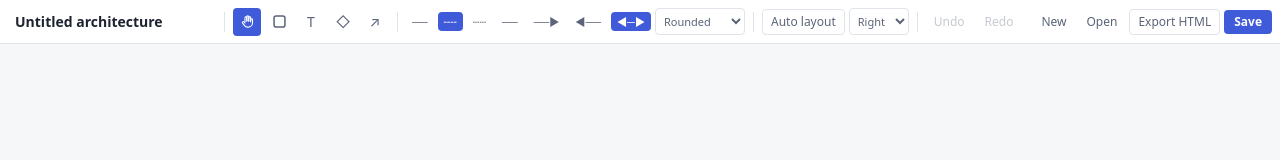
Test: the toolbar › the style picker appears only with the box tool
Click the button named "Box": [279, 22] box [265,8,293,36]
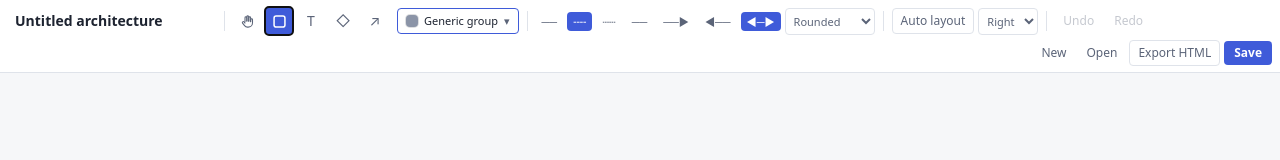
Check: the button with aria-label "Box type" is shown, box [397,8,519,34]
